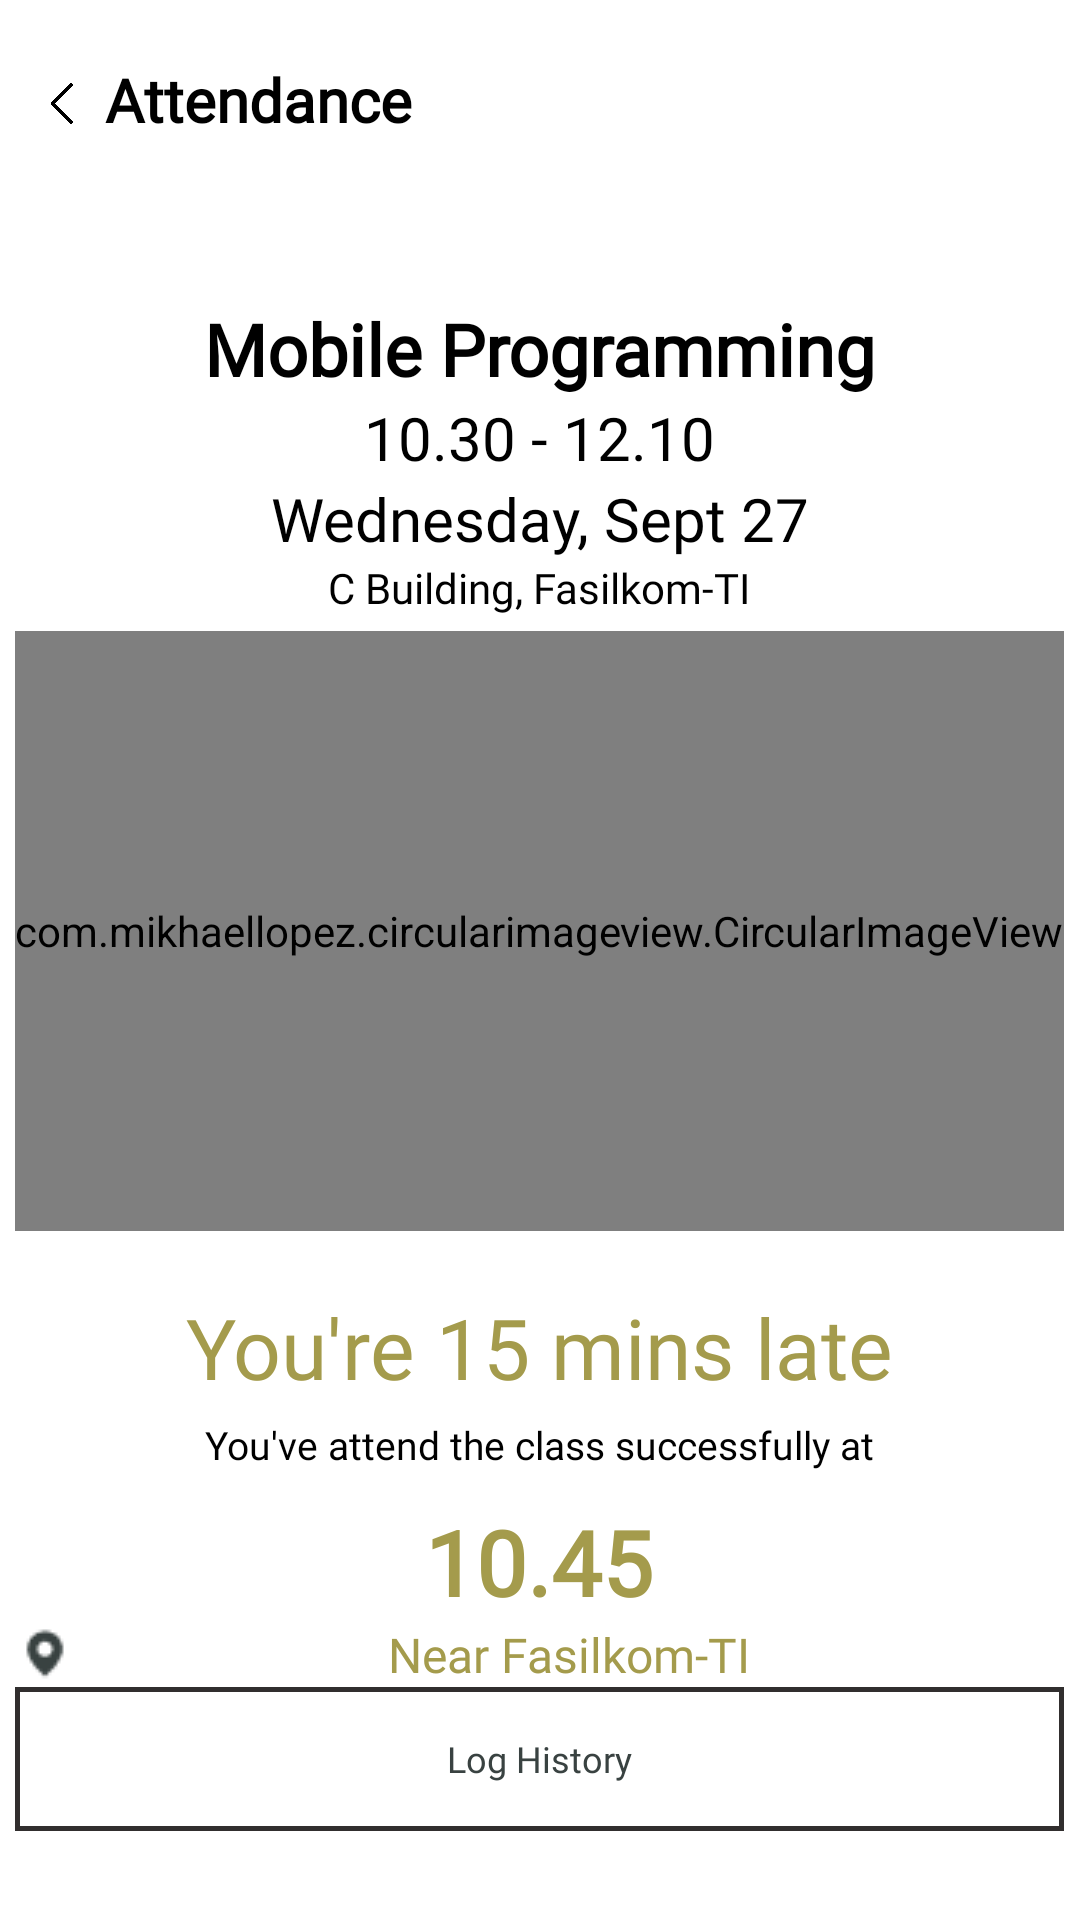

Where to tap for icons on this 1080x1920 app screen, as (x=x, y=y):
back: (x=62, y=103)
